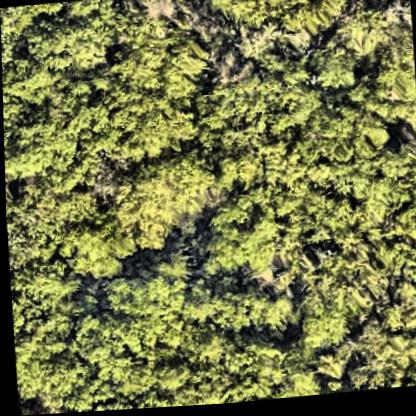tree-top: (91, 37, 207, 158), (149, 342, 317, 409), (107, 150, 213, 250), (197, 68, 317, 147), (102, 258, 187, 361), (186, 274, 293, 349), (4, 172, 97, 256), (342, 292, 416, 395), (297, 108, 391, 187), (3, 91, 78, 190), (346, 28, 416, 133), (209, 0, 356, 45), (15, 330, 91, 416), (205, 195, 280, 280), (10, 258, 81, 343), (60, 215, 133, 280), (64, 0, 114, 79), (22, 16, 86, 75), (203, 141, 267, 196), (296, 293, 350, 352), (332, 0, 384, 61), (1, 50, 55, 106), (310, 42, 358, 99)
